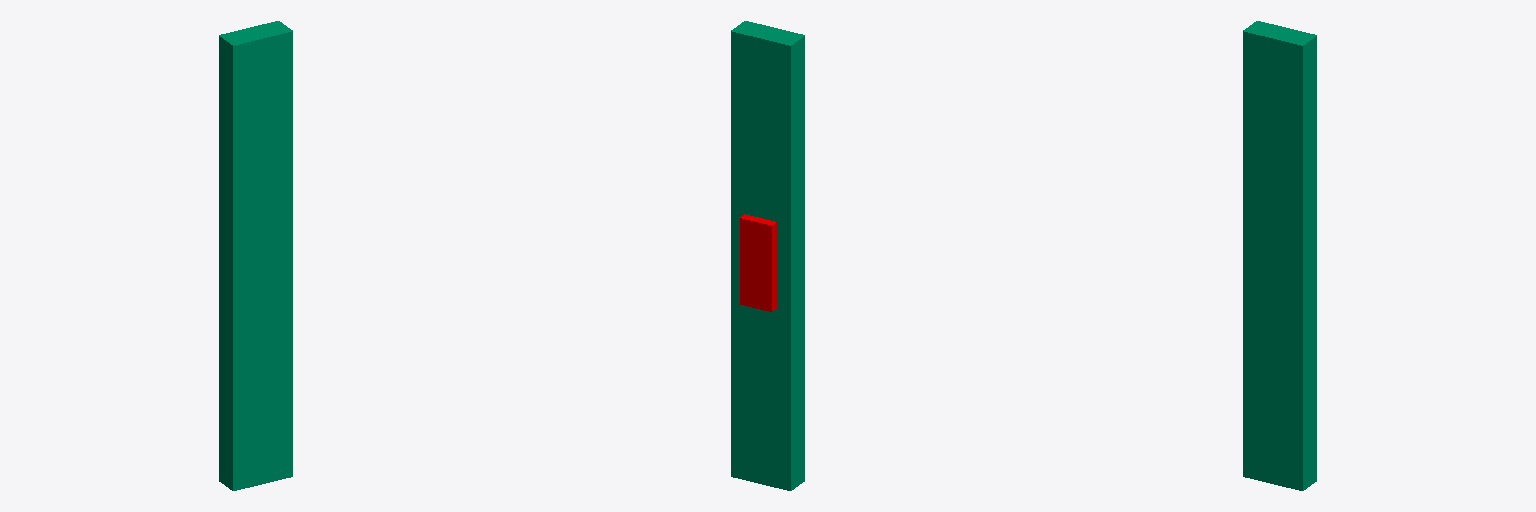
The robot description file, URDF, robot "knife":
<?xml version='1.0' encoding='utf-8'?>
<robot name="knife">
  <link name="base" /><joint name="joint_0" type="fixed"><origin xyz="0 0 0" rpy="0 0 0" /><parent link="base" /><child link="link_0" /></joint><link name="link_1">
    <visual name="link_1">
      <origin xyz="0 0.005717 0" rpy="0 0 0" />
      <geometry>
        <box size="0.010733036170624136 0.0029708604248594303 0.027799177956621433" /></geometry>
    <material name="red"><color rgba="1 0 0 1" /></material></visual>
    <collision>
      <origin xyz="0 0.005717 0" rpy="0 0 0" />
      <geometry>
        <box size="0.010733036170624136 0.0029708604248594303 0.027799177956621433" /></geometry>
    </collision>
    </link>
  <joint name="joint_1" type="prismatic">
    <origin xyz="0 0 0" />
    <axis xyz="0 0 1" />
    <child link="link_1" />
    <parent link="link_0" />
    <limit lower="-0.035672" upper="0.014328" effort="100.0" velocity="1.0" />
  </joint>
  <link name="link_0">
    <visual name="link_0">
      <origin xyz="0 0 0" />
      <geometry>
        <box size="0.02026968400687812 0.008463139267068678 0.14308038360080255" /></geometry>
    </visual>
    <collision>
      <origin xyz="0 0 0" />
      <geometry>
        <box size="0.02026968400687812 0.008463139267068678 0.14308038360080255" /></geometry>
    </collision>
    </link>
</robot>

--- Render facts (derived) ---
3 views of the same robot in one strip: view 1: azimuth 30°, elevation 25°; view 2: azimuth 150°, elevation 25°; view 3: azimuth 330°, elevation 25° (orthographic).
Robot: knife — 3 links, 2 joints (1 prismatic, 1 fixed); root link base; default pose: all joints at 0.
Visible links, largest first — view 1: link_0; view 2: link_0, link_1; view 3: link_0.
Link boxes in pixels (<box>): link_0: <box>219,21,292,490</box>; link_0: <box>731,21,804,490</box>; link_1: <box>740,214,776,311</box>; link_0: <box>1243,21,1316,490</box>.
Size in the robot's own frame: 0.0203 by 0.0114 by 0.1431 metres.
Geometry: primitives only (box / cylinder / sphere), no mesh files.
